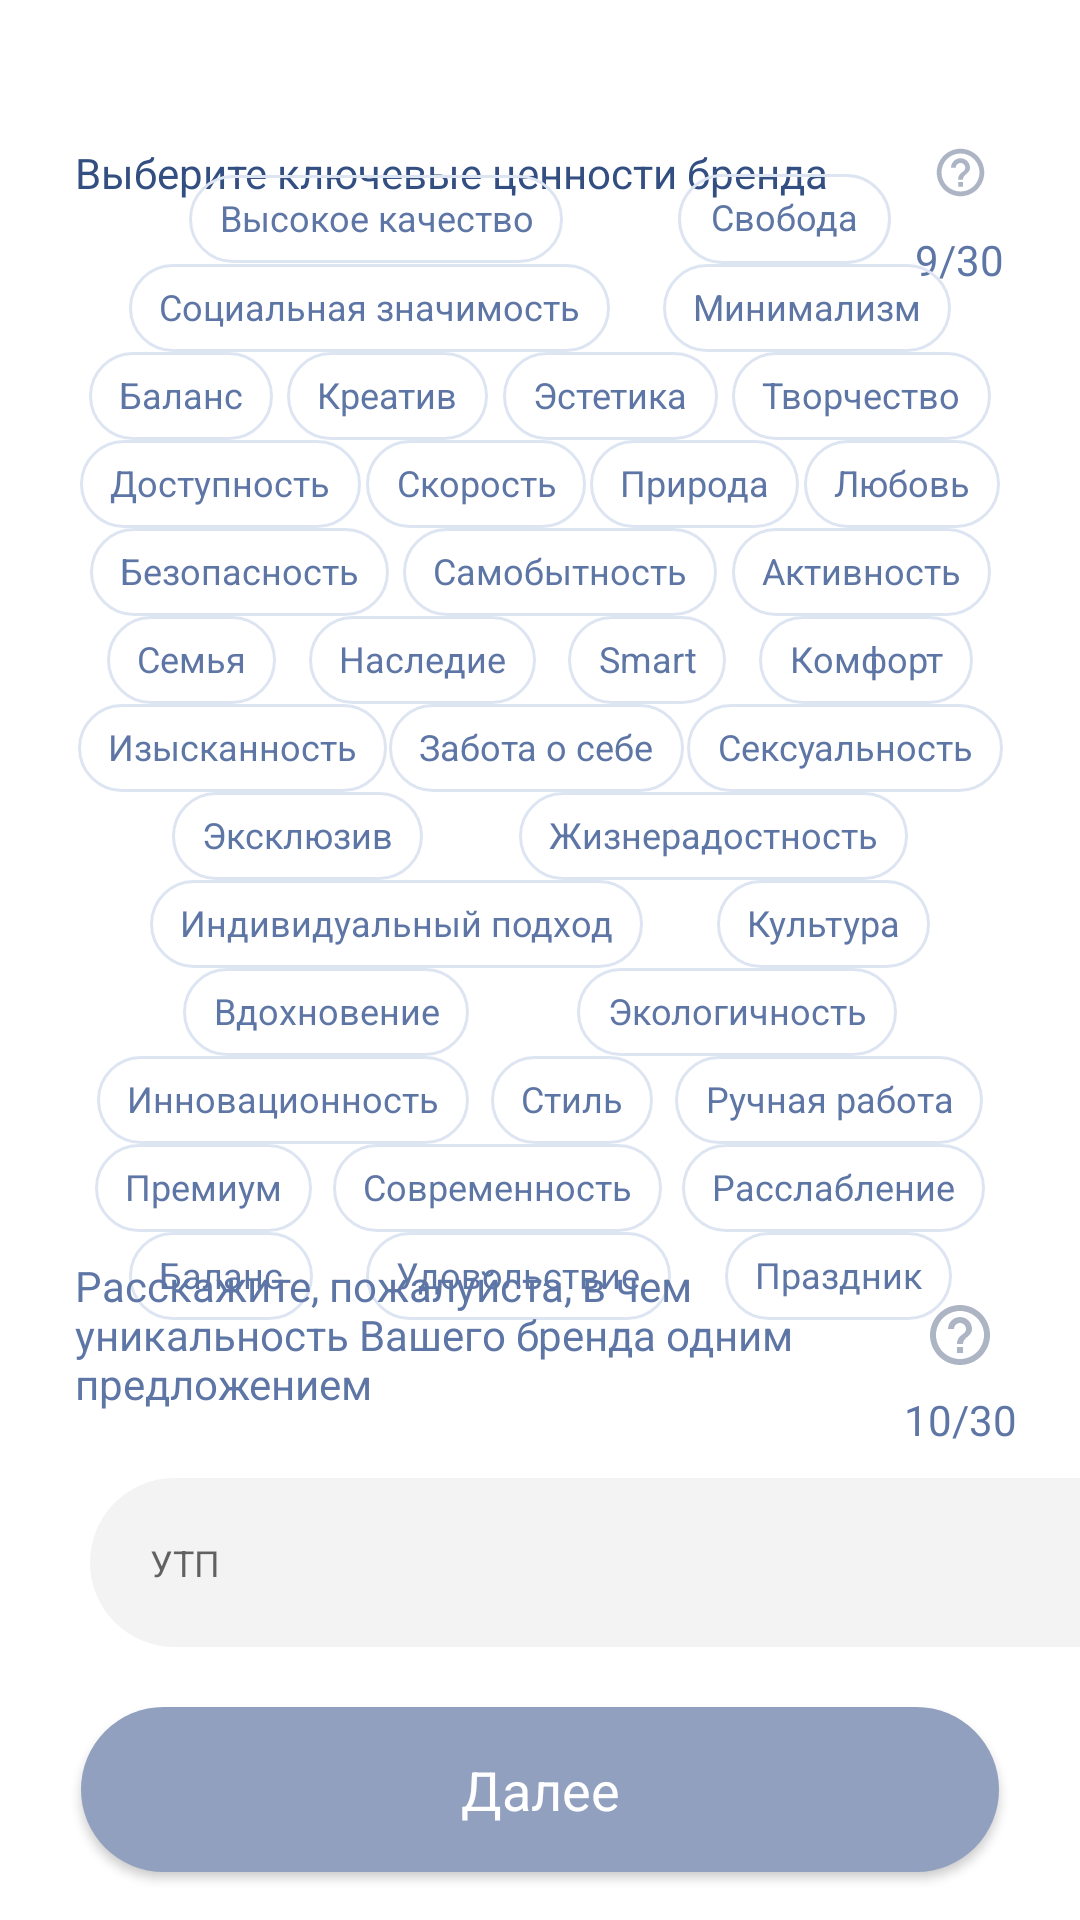

Where icons sit on this 1080x1920 app screen, as (x1, y1, x2, y2):
help: (937, 149, 984, 196), (930, 1305, 990, 1365)
